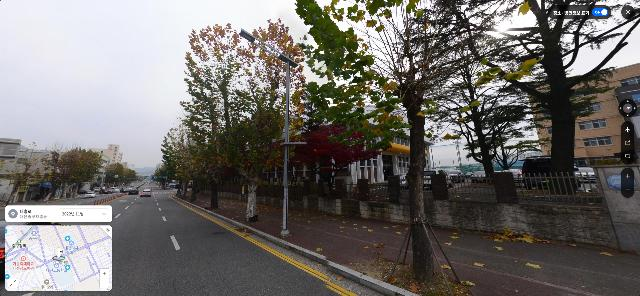other: (294, 0, 550, 285), (399, 1, 640, 185), (182, 20, 309, 222), (180, 23, 250, 210), (262, 124, 382, 186)
